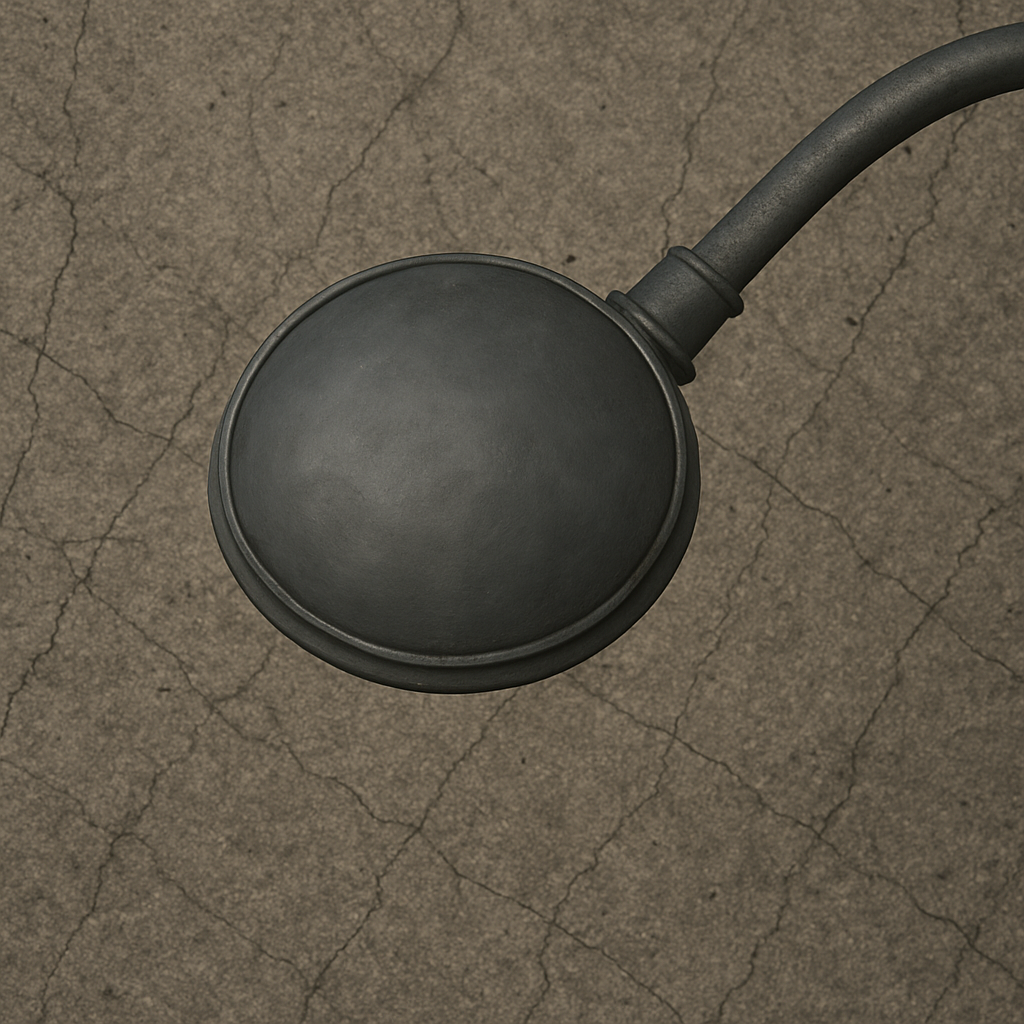Top_Street_Light: (200, 267, 704, 674)
